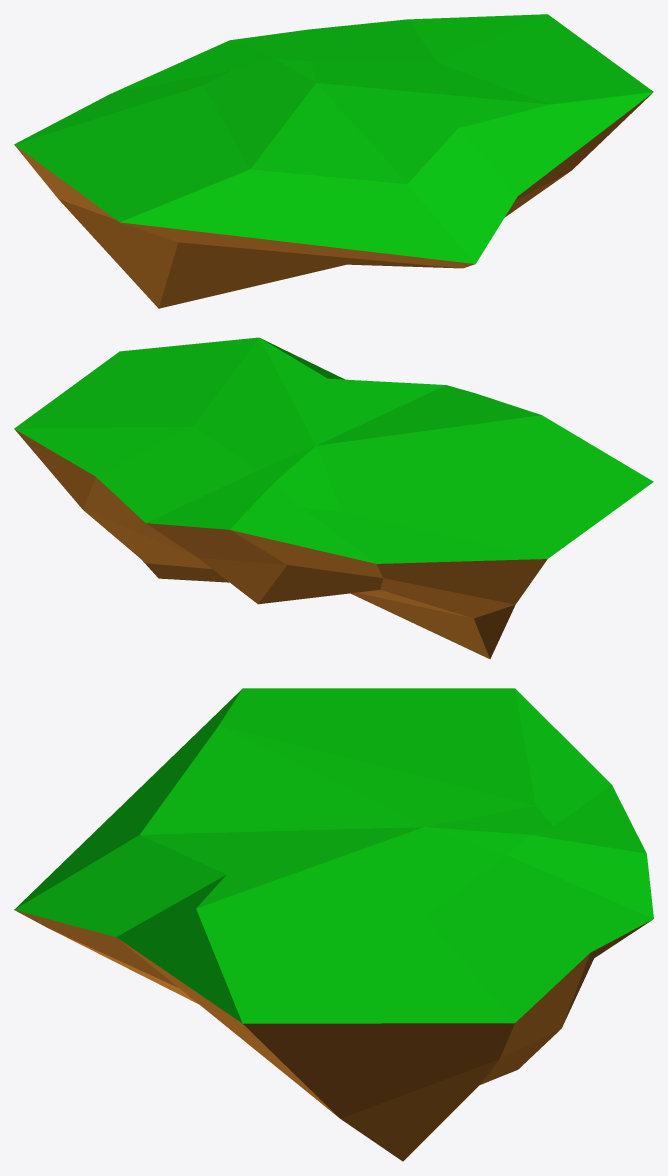
The model's file is terrain_01.glb.
3 views of the same model, one above another, from view 1: azimuth 30°, elevation 25°; view 2: azimuth 150°, elevation 25°; view 3: azimuth 270°, elevation 25° (orthographic). The views are drawn at different scales.
Visible parts, largest first — view 1: Sphere; view 2: Sphere; view 3: Sphere.
Boxes of the visible parts, x1,y1,x2,y2 form: Sphere: (14, 14, 653, 308); Sphere: (14, 337, 653, 658); Sphere: (14, 688, 653, 1161).
Size of the model in its own units: 15.9 by 5.32 by 12.83.
